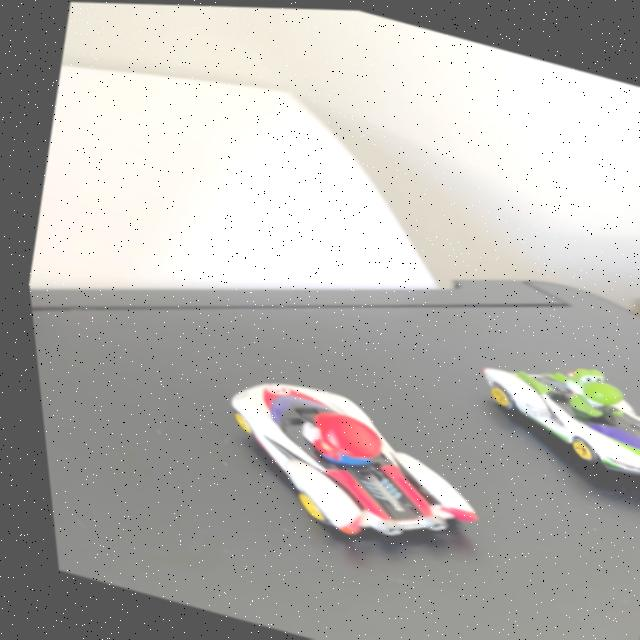mario: (181, 358, 510, 580)
yoshi: (439, 325, 640, 491)
